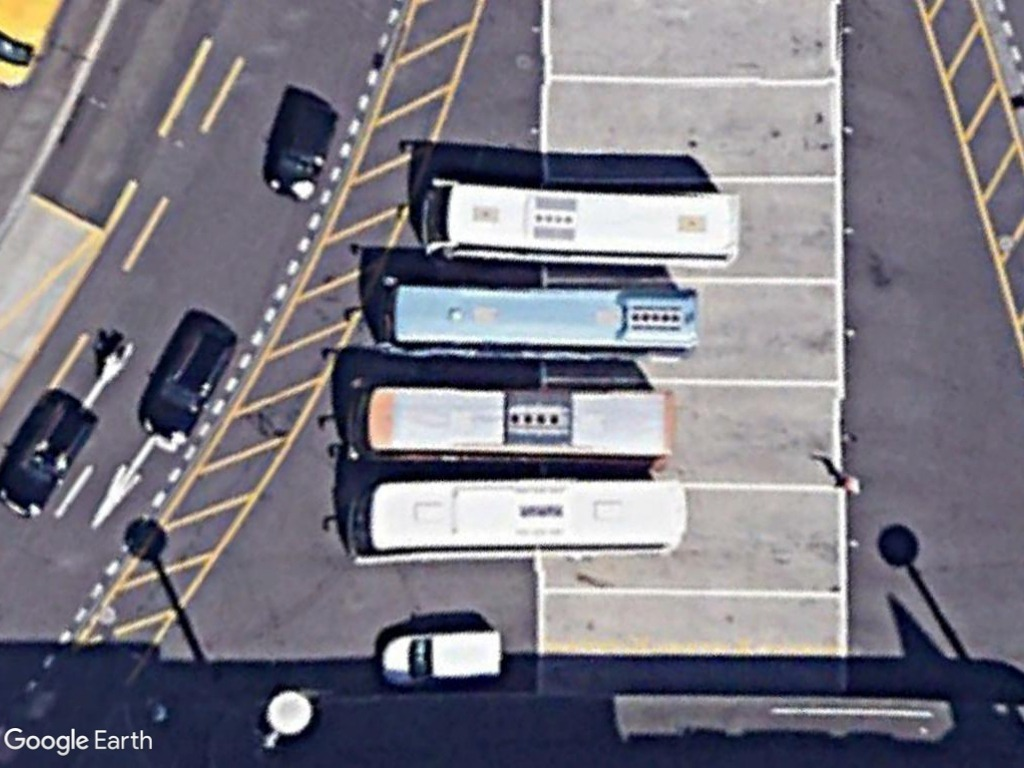bus: (415, 173, 743, 271), (346, 476, 689, 566), (345, 383, 679, 468), (378, 281, 701, 360)
van: (379, 623, 505, 690)
